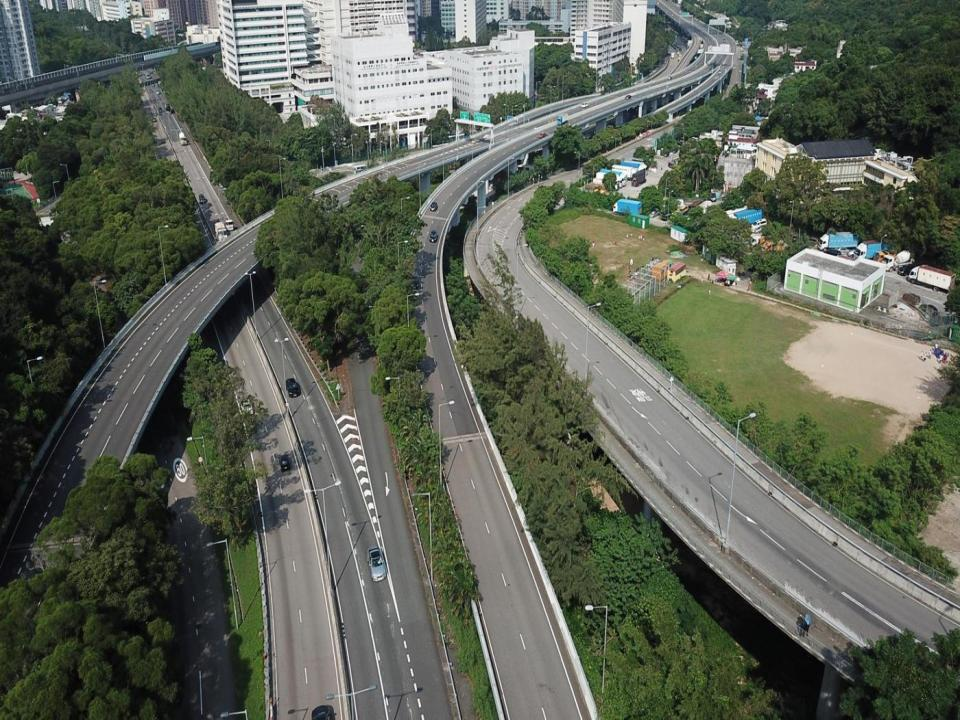bus: (163, 100, 172, 115), (144, 70, 151, 80)
car: (366, 545, 386, 582), (896, 260, 920, 277), (284, 378, 300, 397), (240, 397, 254, 417), (902, 291, 920, 306), (277, 453, 291, 472), (804, 234, 820, 248), (834, 245, 850, 256), (824, 248, 842, 257), (751, 218, 767, 228), (754, 224, 770, 234), (648, 207, 660, 220), (847, 248, 860, 260), (224, 218, 235, 232), (429, 229, 438, 242), (429, 200, 438, 212), (709, 191, 717, 203), (538, 130, 547, 140), (199, 193, 206, 204), (580, 101, 589, 109), (624, 93, 632, 101), (671, 146, 679, 154), (663, 150, 670, 157), (148, 87, 154, 93), (160, 138, 166, 143), (152, 116, 157, 122), (158, 106, 163, 112), (155, 89, 160, 95)
truck: (908, 262, 956, 294), (818, 229, 860, 252), (730, 207, 762, 229), (880, 250, 912, 272), (852, 240, 882, 262), (618, 160, 648, 181), (612, 198, 642, 218), (599, 168, 628, 187), (595, 171, 620, 191), (599, 168, 624, 188), (872, 248, 897, 268), (611, 163, 638, 181), (631, 166, 646, 187), (214, 221, 228, 243), (556, 112, 569, 125), (178, 132, 187, 146)
